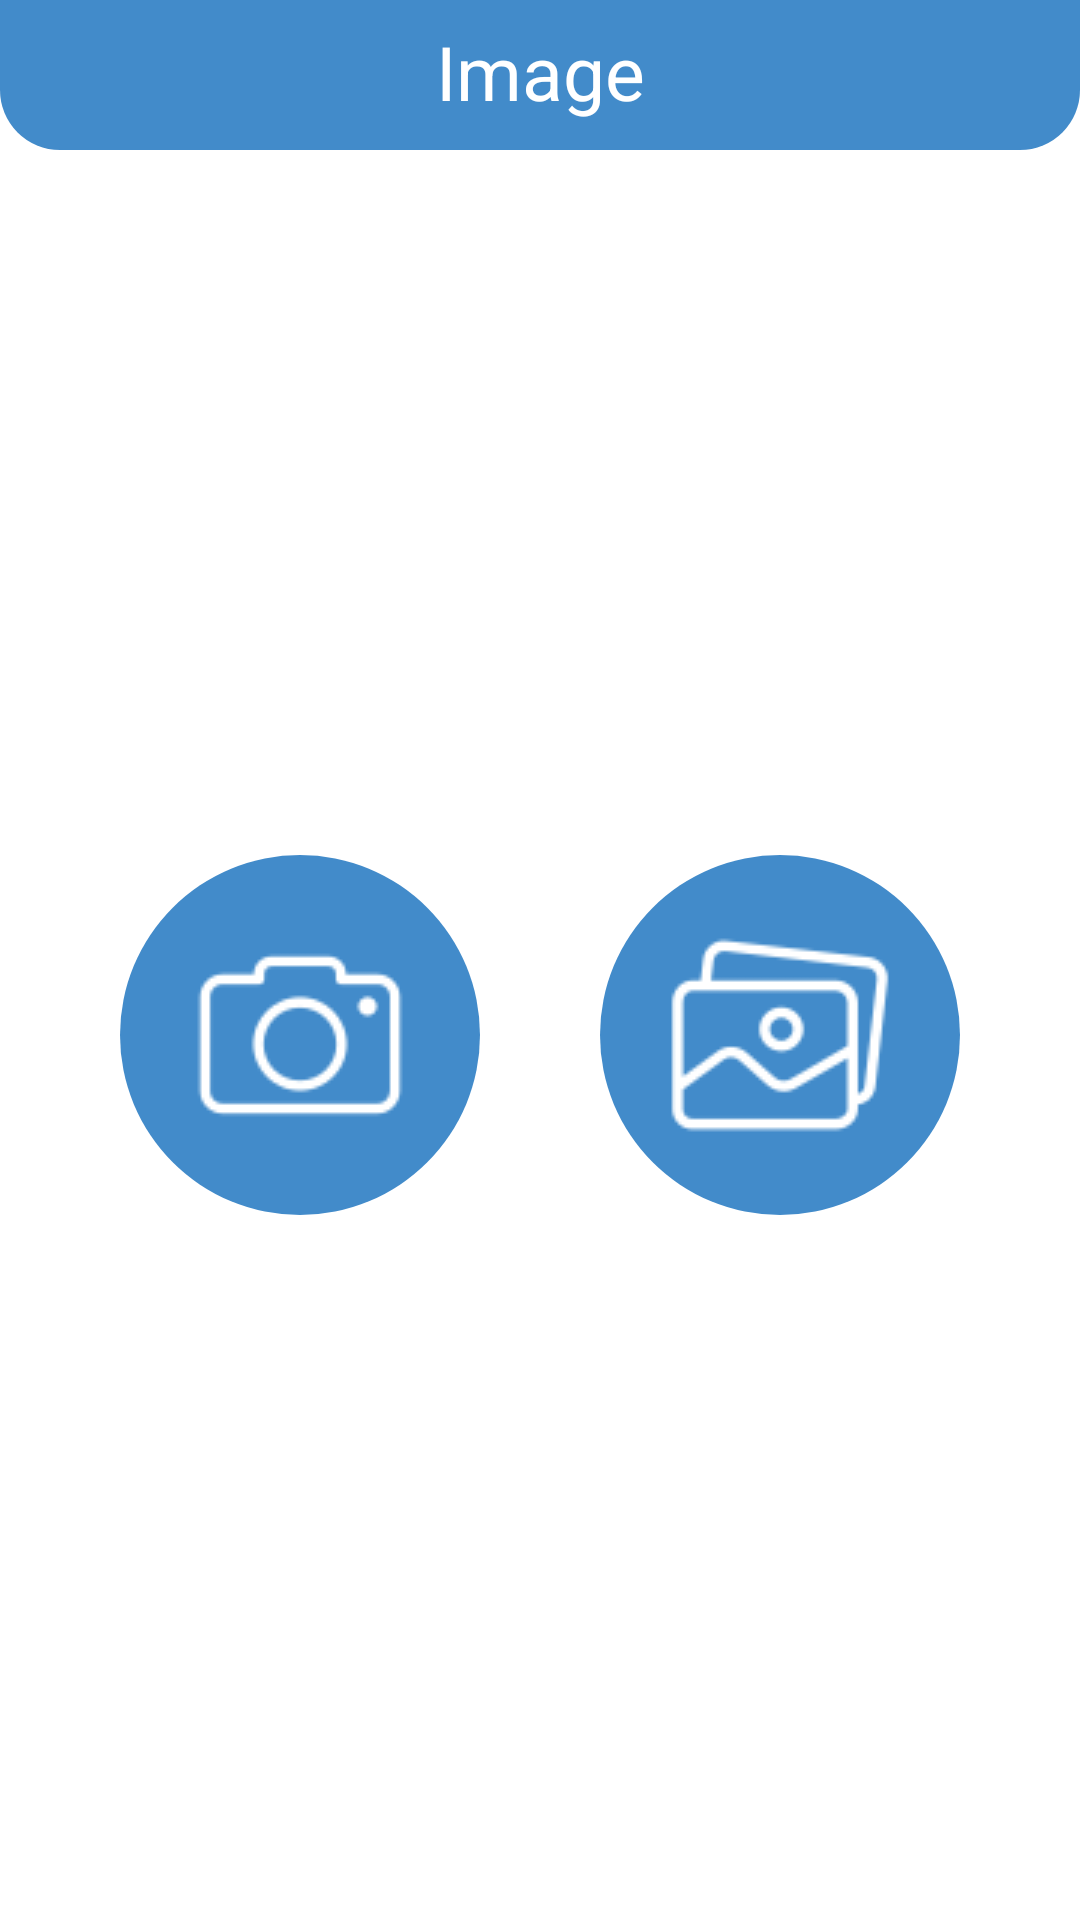

Point at icon controls on the screen. Image size 1080 x 1920, points as [x,y].
camera: [300,1035]
gallery: [780,1035]
